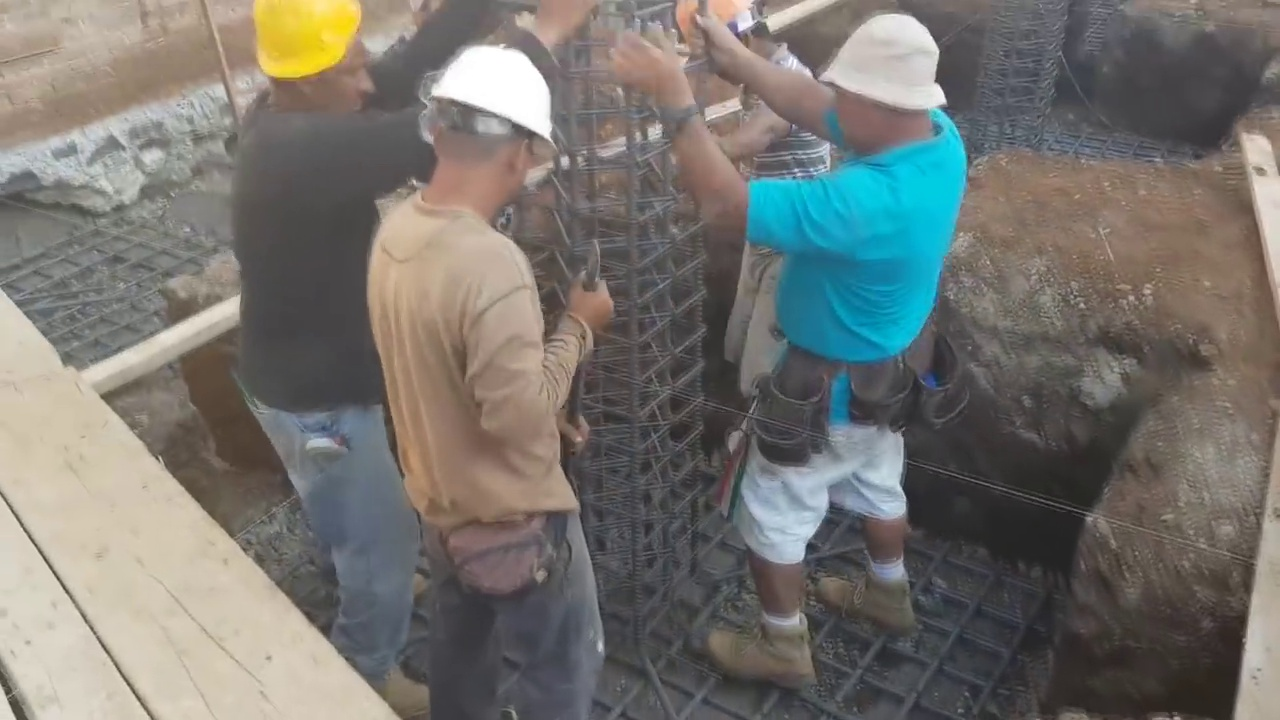helmet: (417, 42, 562, 145), (247, 7, 365, 79), (677, 0, 759, 74)
helmet-off: (791, 8, 947, 158)
helmet-on: (415, 46, 564, 231), (674, 1, 780, 104)
person: (227, 0, 595, 705), (618, 5, 963, 692), (375, 33, 612, 719), (675, 0, 832, 405)
